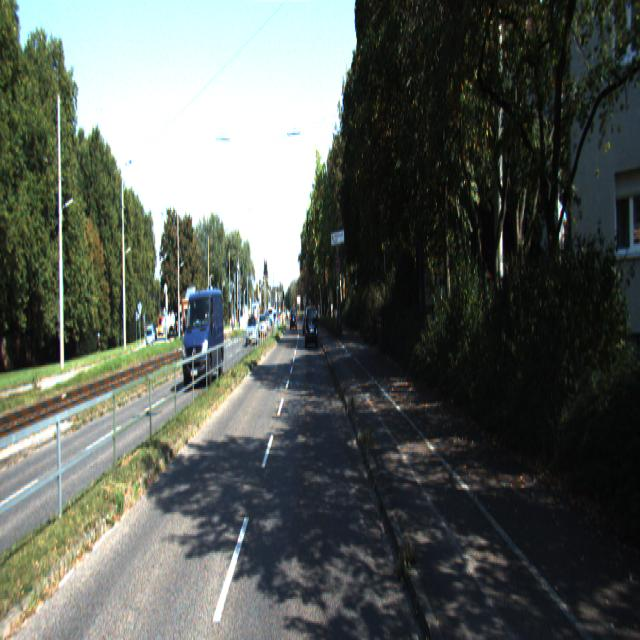Car: (182, 282, 225, 388), (306, 305, 319, 350), (246, 317, 258, 347)
